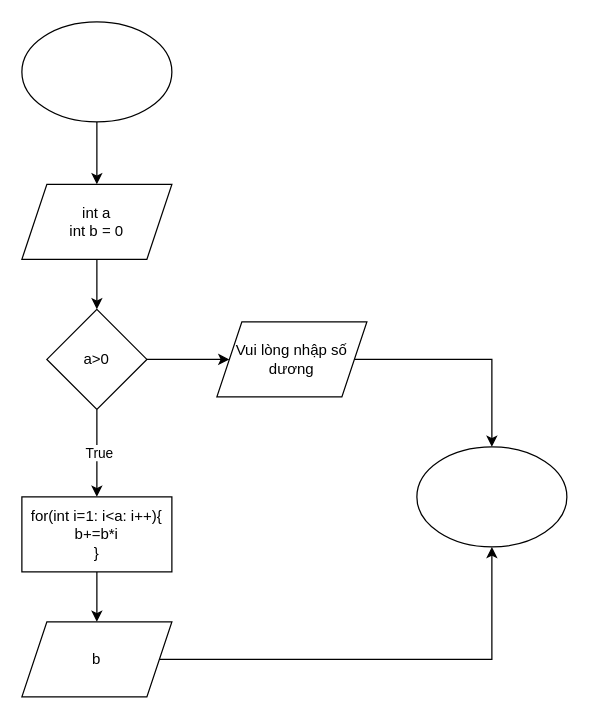
The diagram is 589 pixels wide and 719 high, and some of its shapes have lost their labels. Here are the shapes that lost their labels. From the top down, the centre of each, then its label:
At pixel 96 71: "Start".
At pixel 491 496: "End".
